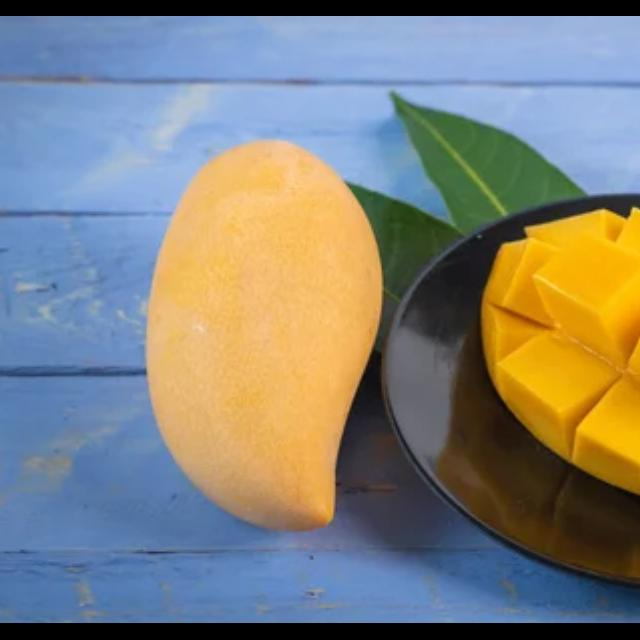mango: (141, 138, 382, 531)
